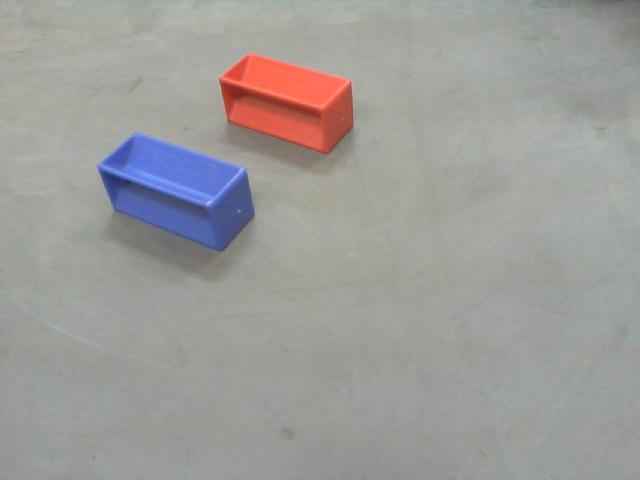BlueSample: (95, 128, 256, 255)
RedSample: (217, 48, 355, 152)
